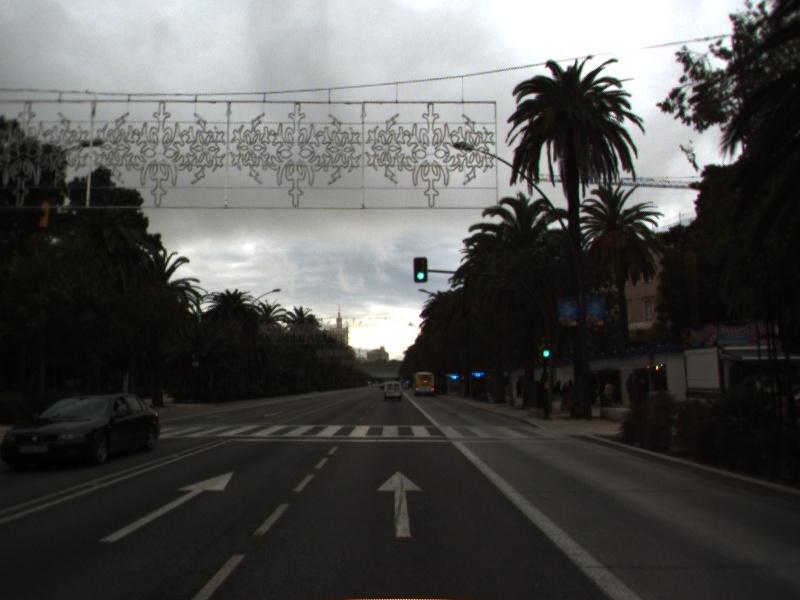STRAIGHT: (98, 469, 236, 544), (375, 469, 425, 539)
